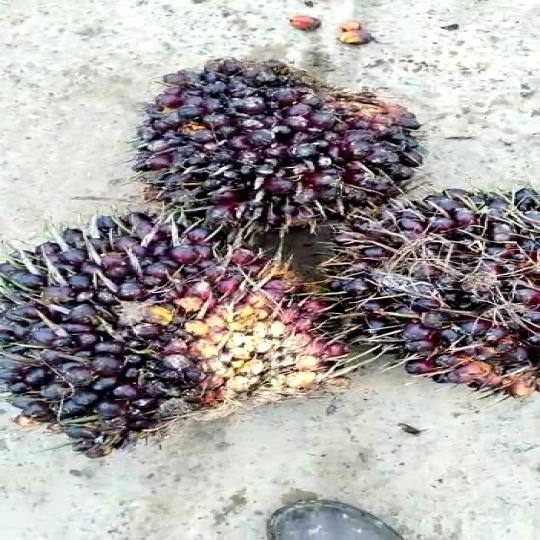kurang masak: (0, 218, 340, 465), (309, 180, 540, 424), (136, 51, 408, 240)
